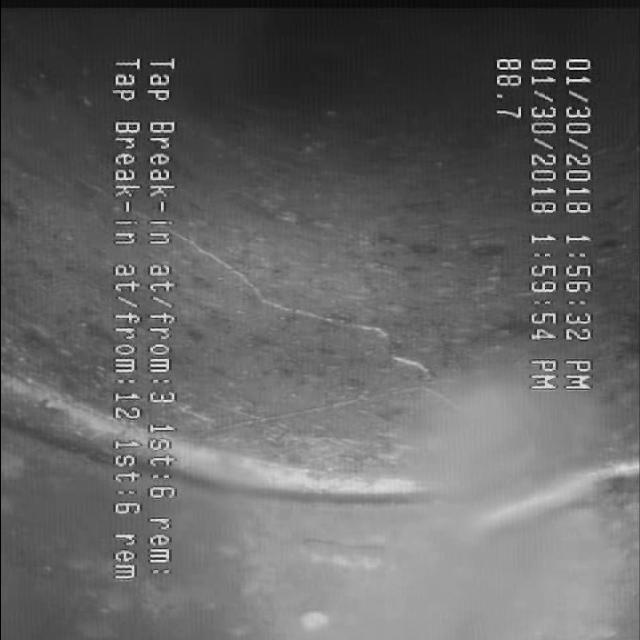Crack: (223, 276, 436, 384)
